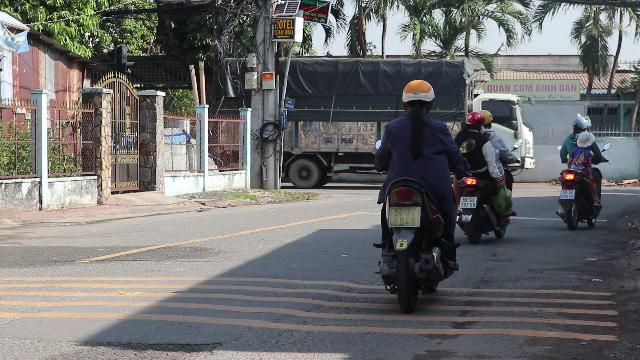helmet: (400, 79, 436, 113), (464, 110, 484, 130), (572, 113, 590, 131), (480, 110, 492, 128)
licenseplate: (390, 207, 420, 226), (460, 197, 476, 207), (560, 190, 574, 198)
motorcyclist: (368, 77, 464, 304), (454, 109, 518, 243), (555, 112, 605, 229)
nohelmet: (576, 131, 596, 147)
